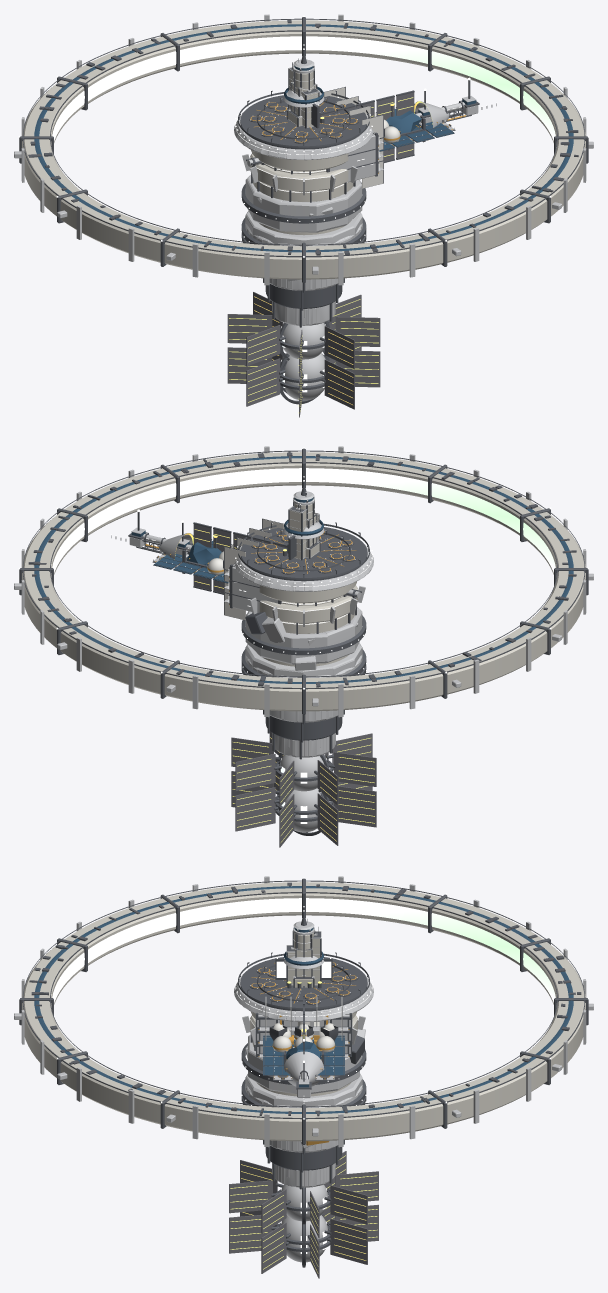
File: stations.glb
The picture shows the model from 3 angles, top to bottom: view 1: azimuth 30°, elevation 25°; view 2: azimuth 150°, elevation 25°; view 3: azimuth 270°, elevation 25°; orthographic projection.
Parts seen in each view (by area): view 1: P|ms_ring|cathedral|0|hab, P|ms_ring|cathedral|0|green, P|ms_ring|cathedral|0|dark, P|ms_core|junk|0|rad, P|ms_core|clean|0|hull, P|ms_core|junk|0|hull, P|ms_core|cathedral|0|dark, P|ms_ring|cathedral|0|glass, P|ms_core|cathedral|0|rad, P|ms_ring|cathedral|0|hull, P|ms_core|clean|0|dark, P|ms_core|cathedral|0|hull (+14 smaller); view 2: P|ms_ring|cathedral|0|hab, P|ms_ring|cathedral|0|green, P|ms_ring|cathedral|0|dark, P|ms_core|junk|0|rad, P|ms_core|clean|0|hull, P|ms_core|junk|0|hull, P|ms_core|cathedral|0|dark, P|ms_ring|cathedral|0|glass, P|ms_core|clean|0|dark, P|ms_core|cathedral|0|rad, P|ms_ring|cathedral|0|hull, P|ms_core|junk|0|dark (+13 smaller); view 3: P|ms_ring|cathedral|0|hab, P|ms_ring|cathedral|0|green, P|ms_ring|cathedral|0|dark, P|ms_core|junk|0|rad, P|ms_core|clean|0|hull, P|ms_ring|cathedral|0|glass, P|ms_core|cathedral|0|dark, P|ms_core|clean|0|dark, P|ms_ring|cathedral|0|hull, P|ms_core|cathedral|0|rad, P|ms_core|clean|0|rad, P|ms_core|cathedral|0|hull (+13 smaller).
Part boxes in pixels (x1=…): P|ms_ring|cathedral|0|hab: x1=22, y1=20, x2=585, y2=279; P|ms_ring|cathedral|0|green: x1=52, y1=36, x2=555, y2=141; P|ms_ring|cathedral|0|dark: x1=19, y1=17, x2=588, y2=282; P|ms_core|junk|0|rad: x1=227, y1=292, x2=380, y2=376; P|ms_core|clean|0|hull: x1=234, y1=89, x2=373, y2=400; P|ms_core|junk|0|hull: x1=245, y1=91, x2=362, y2=359; P|ms_core|cathedral|0|dark: x1=238, y1=90, x2=369, y2=393; P|ms_ring|cathedral|0|glass: x1=34, y1=24, x2=573, y2=252; P|ms_core|cathedral|0|rad: x1=227, y1=346, x2=380, y2=402; P|ms_ring|cathedral|0|hull: x1=14, y1=14, x2=593, y2=285; P|ms_core|clean|0|dark: x1=240, y1=95, x2=367, y2=404; P|ms_core|cathedral|0|hull: x1=239, y1=91, x2=364, y2=379; P|ms_ring|cathedral|0|hab: x1=22, y1=452, x2=585, y2=711; P|ms_ring|cathedral|0|green: x1=52, y1=468, x2=555, y2=572; P|ms_ring|cathedral|0|dark: x1=19, y1=448, x2=588, y2=714; P|ms_core|junk|0|rad: x1=231, y1=731, x2=376, y2=807; P|ms_core|clean|0|hull: x1=234, y1=521, x2=373, y2=832; P|ms_core|junk|0|hull: x1=245, y1=523, x2=362, y2=791; P|ms_core|cathedral|0|dark: x1=238, y1=522, x2=369, y2=814; P|ms_ring|cathedral|0|glass: x1=34, y1=456, x2=573, y2=683; P|ms_core|clean|0|dark: x1=240, y1=527, x2=367, y2=835; P|ms_core|cathedral|0|rad: x1=231, y1=752, x2=376, y2=840; P|ms_ring|cathedral|0|hull: x1=14, y1=446, x2=593, y2=717; P|ms_core|junk|0|dark: x1=241, y1=529, x2=366, y2=792; P|ms_ring|cathedral|0|hab: x1=22, y1=882, x2=585, y2=1141; P|ms_ring|cathedral|0|green: x1=52, y1=898, x2=555, y2=1002; P|ms_ring|cathedral|0|dark: x1=19, y1=878, x2=588, y2=1144; P|ms_core|junk|0|rad: x1=229, y1=1151, x2=378, y2=1238; P|ms_core|clean|0|hull: x1=234, y1=956, x2=373, y2=1262; P|ms_ring|cathedral|0|glass: x1=34, y1=886, x2=573, y2=1113; P|ms_core|cathedral|0|dark: x1=238, y1=952, x2=369, y2=1247; P|ms_core|clean|0|dark: x1=240, y1=957, x2=367, y2=1267; P|ms_ring|cathedral|0|hull: x1=14, y1=876, x2=593, y2=1147; P|ms_core|cathedral|0|rad: x1=229, y1=1195, x2=378, y2=1271; P|ms_core|clean|0|rad: x1=229, y1=1205, x2=378, y2=1278; P|ms_core|cathedral|0|hull: x1=242, y1=957, x2=368, y2=1240.
Size of the model in its own units: 911 by 622 by 911.
